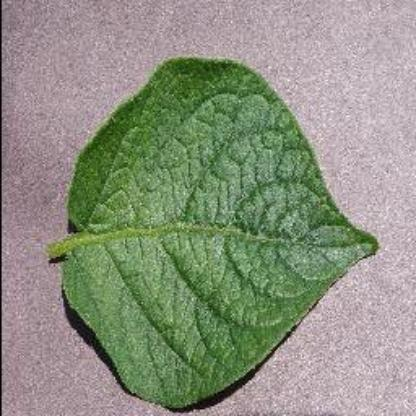Healthy-plant: (50, 48, 378, 410)
